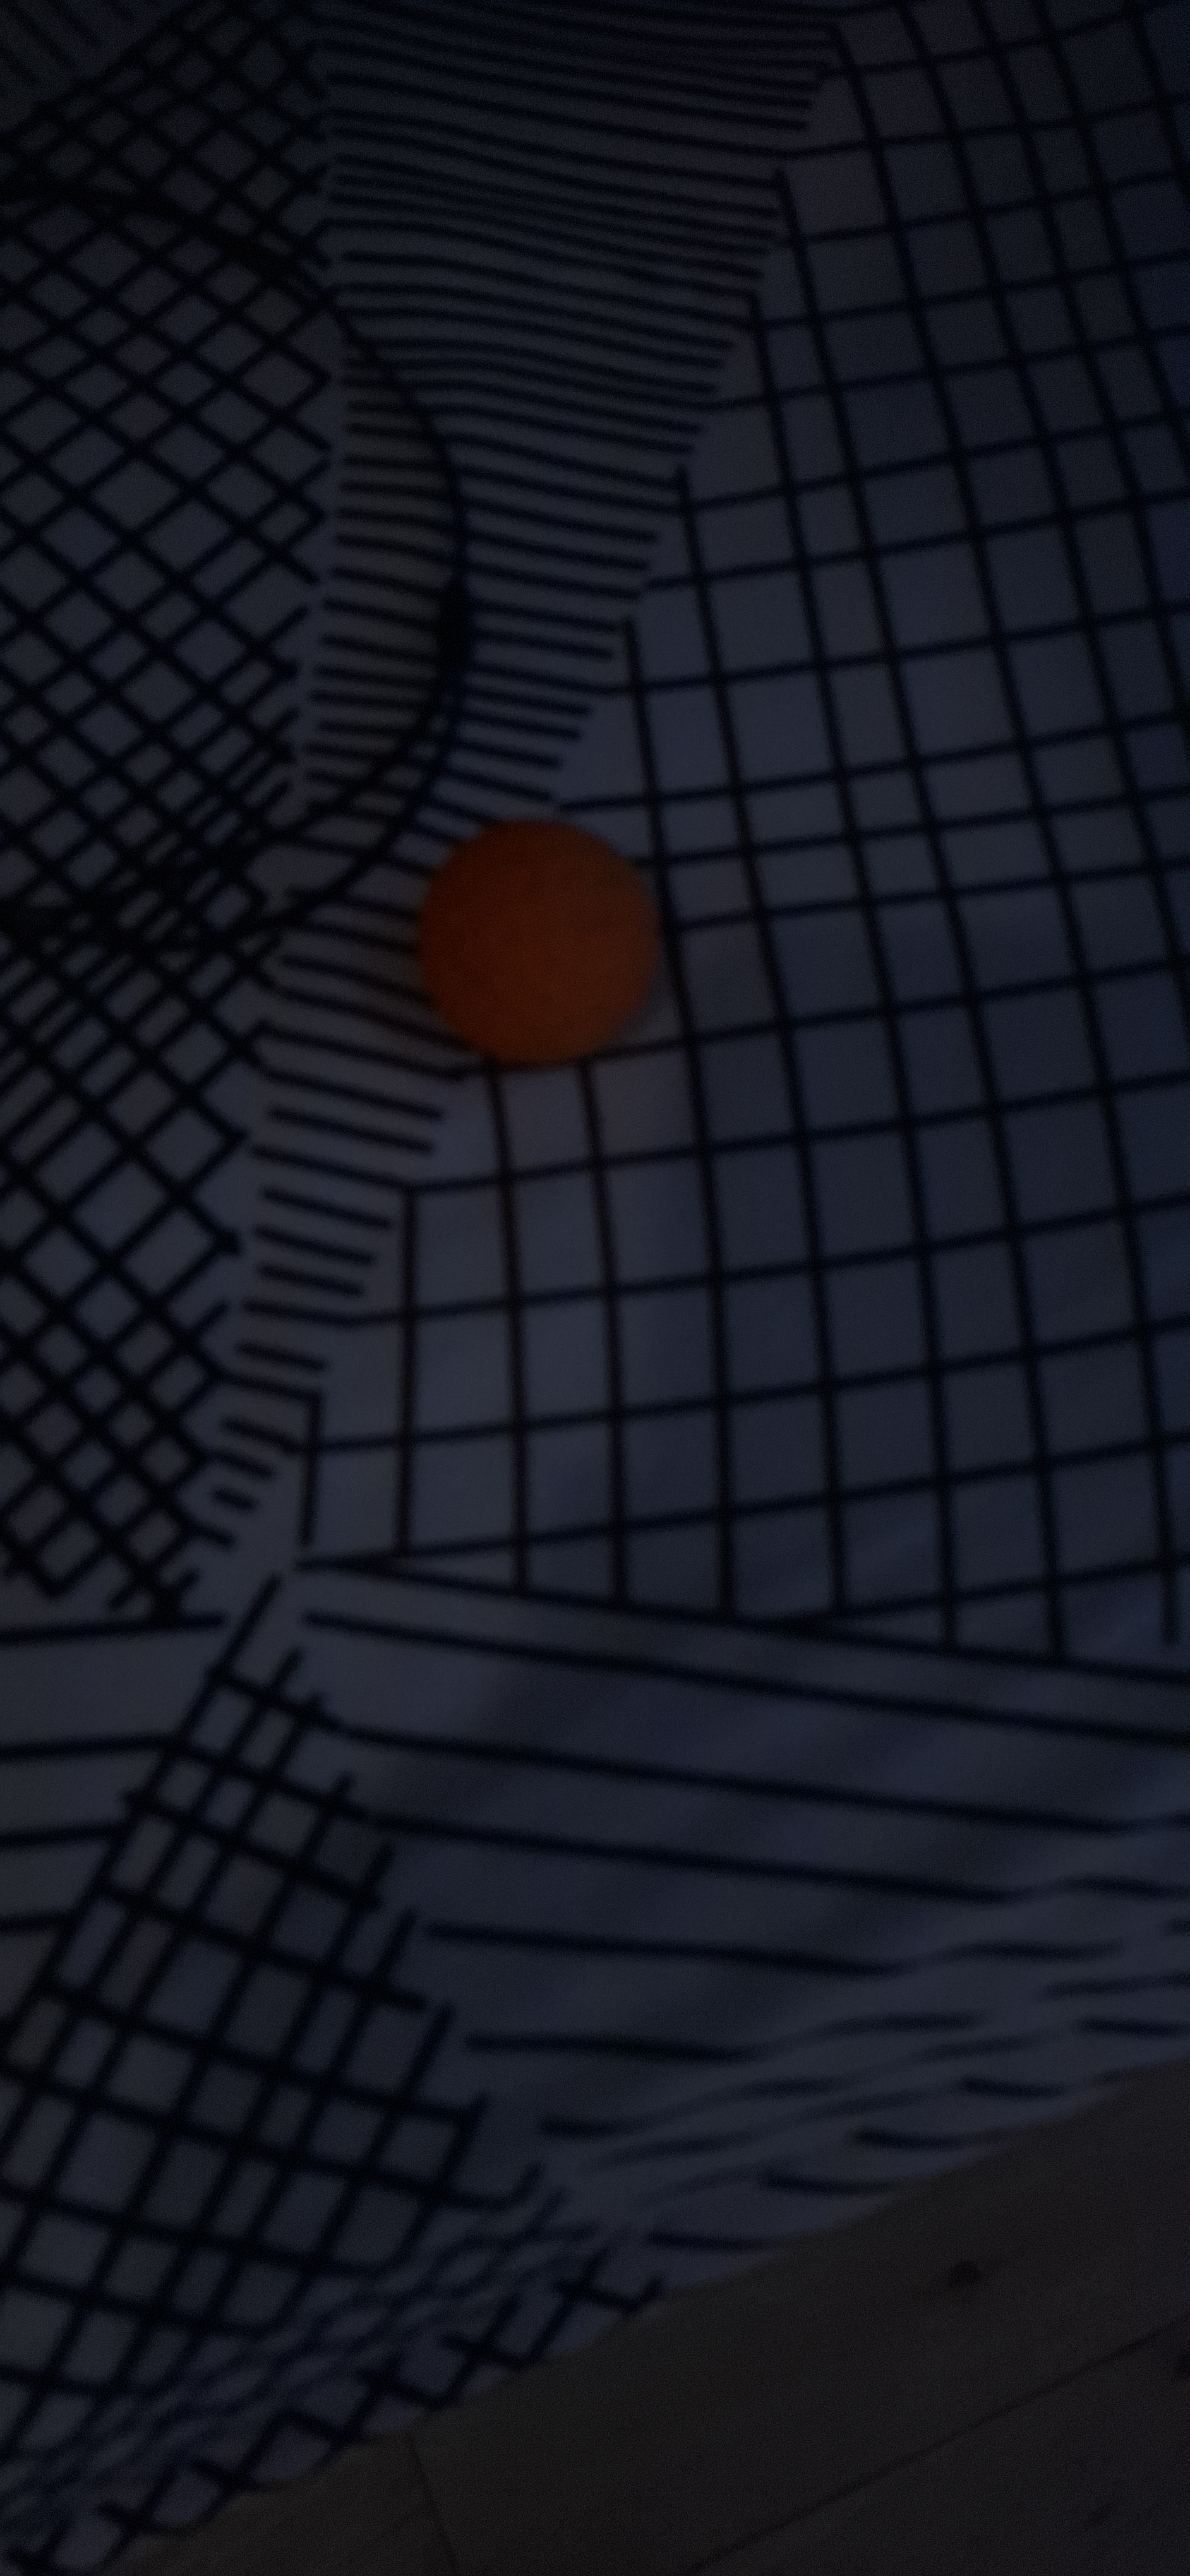ball: (378, 1147, 490, 1672)
